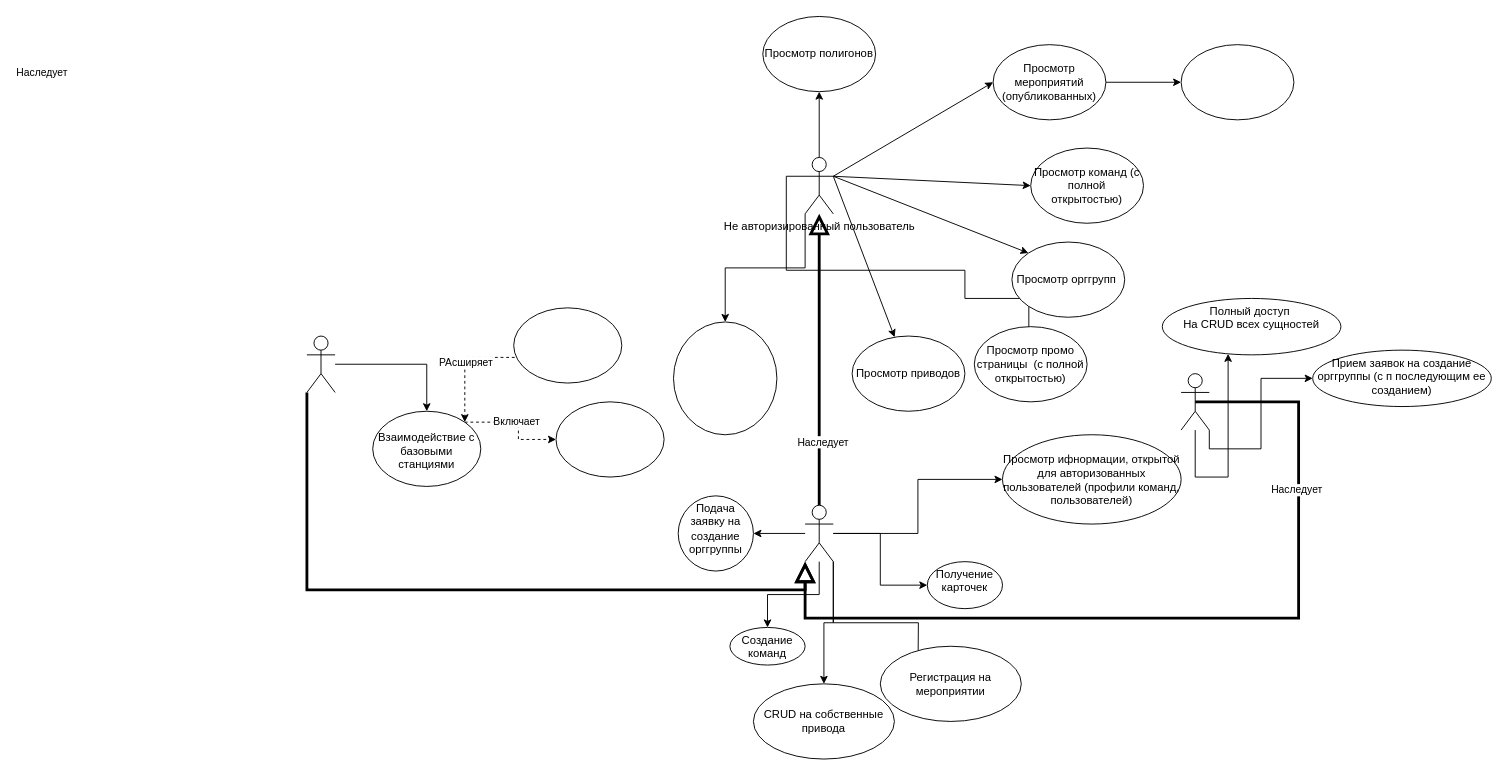
Image size: 1508x776. Some labels were removed from this diagram. Here are the shapes that lost their labels. From the top down, the box of each, then its label:
(1180, 44, 1294, 120): Просмотр мероприятий (не опубилкованных, в рамках своей группы)
(306, 335, 335, 392): Обладатель карточки
(513, 307, 622, 383): Взаимодействие с базовыми станциями в игровом режиме
(673, 321, 777, 435): Просмотр промо страницы
(1180, 373, 1209, 430): Администратор
(555, 401, 664, 477): Идентификация на мероприятии
(804, 504, 833, 562): Авторизованный пользователь
